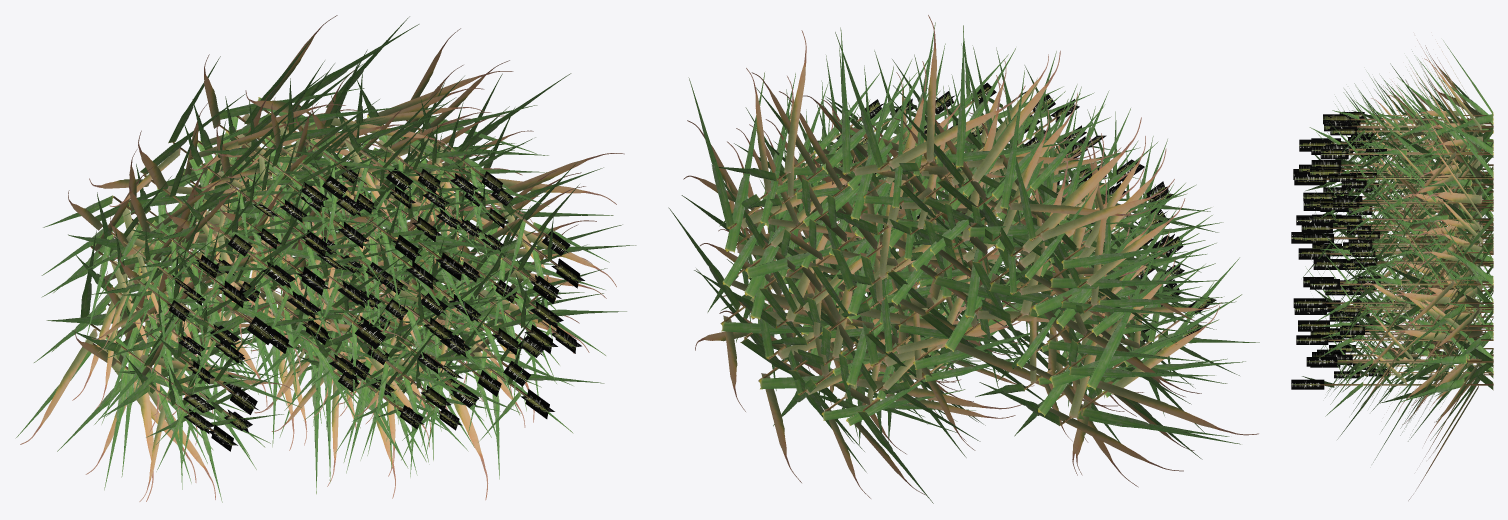
The model's file is SpartinaBillboard.obj.
3 views of the same model, side by side, from view 1: azimuth 30°, elevation 25°; view 2: azimuth 150°, elevation 25°; view 3: azimuth 270°, elevation 25° (orthographic). The views are drawn at different scales.
Parts seen in each view (by area): view 1: Group; view 2: Group; view 3: Group.
Boxes of the visible parts, box(x1,y1,x2,y2) form: Group: box(15, 15, 636, 502); Group: box(668, 15, 1259, 503); Group: box(1291, 40, 1493, 500).
Bounding box in the file's own units: 5.84 × 4.79 × 2.22.
4 materials, 4 textured.
